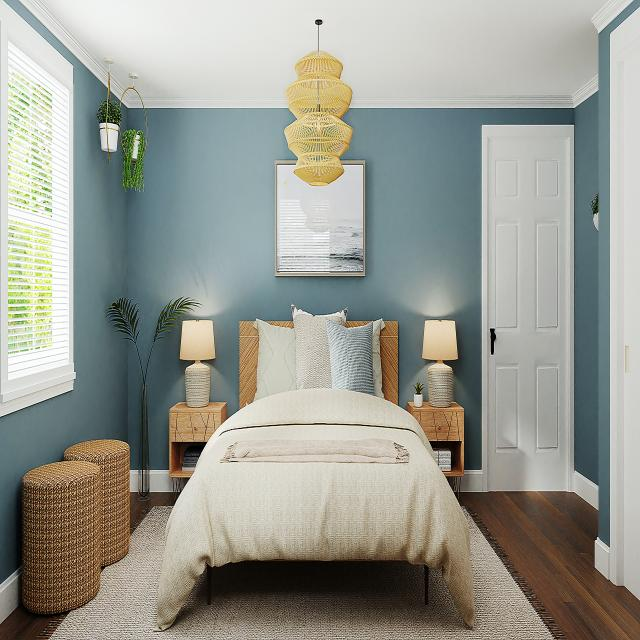floor: (0, 492, 640, 640)
